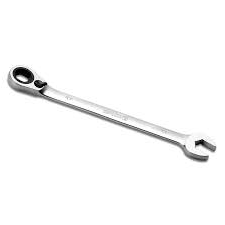wrench: (6, 59, 225, 176)
